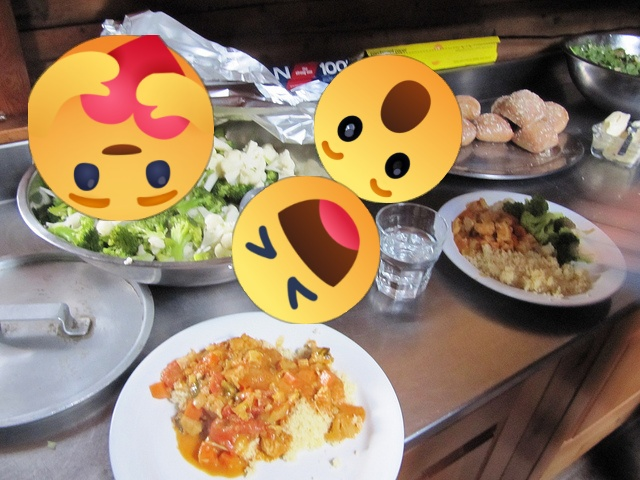care: (28, 35, 214, 221)
haha: (232, 176, 380, 324)
wow: (314, 55, 462, 203)
